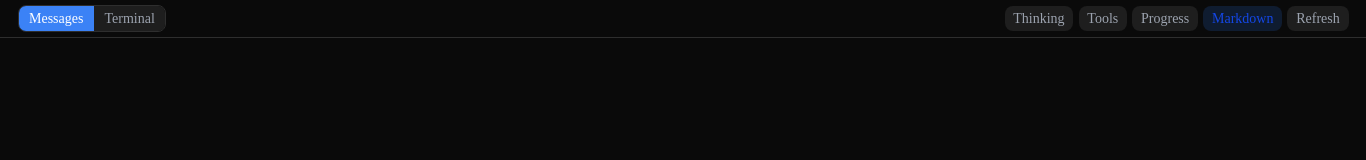
Test case: SessionContent › view mode switching › hides filter buttons in terminal view
Click the button "Terminal": point(130, 19) [94,6,165,31]
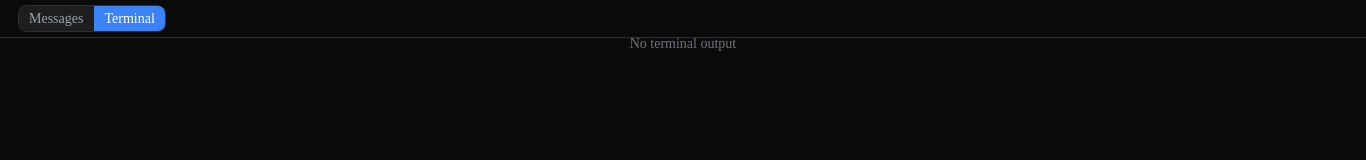
Now the button "Thinking" is gone
Now the button "Tool" is gone
Now the button "Progress" is gone
